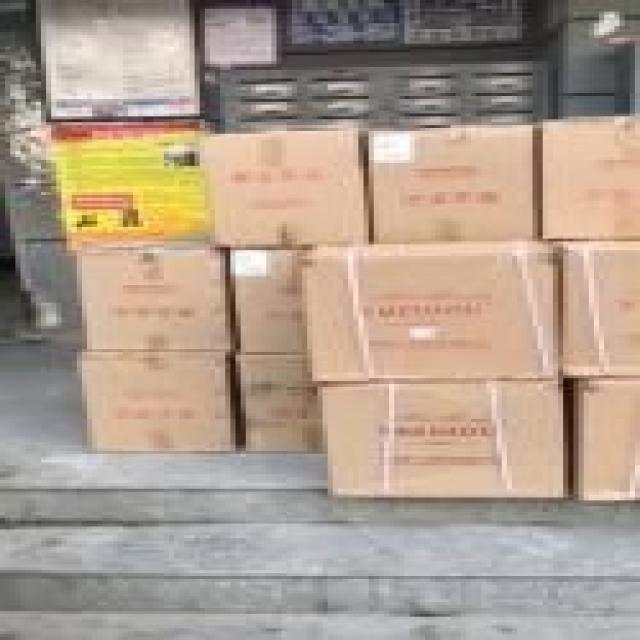box: (311, 238, 558, 382), (317, 381, 566, 496), (48, 116, 207, 251), (362, 123, 540, 241), (206, 129, 377, 247), (33, 3, 200, 118), (72, 247, 241, 349), (76, 346, 234, 452), (538, 235, 635, 375), (530, 116, 635, 239), (219, 244, 310, 356), (230, 353, 324, 450), (567, 369, 635, 500), (280, 0, 402, 52), (196, 5, 283, 70), (401, 0, 527, 44)
